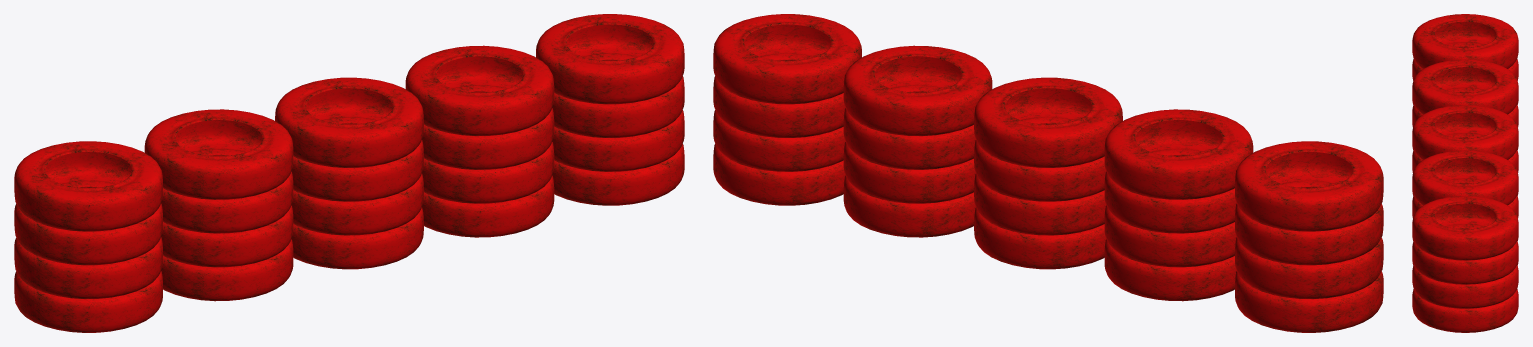
The model's file is TireBarrier_5.fbx.
3 renders of one model, left to right at view 1: azimuth 30°, elevation 25°; view 2: azimuth 150°, elevation 25°; view 3: azimuth 270°, elevation 25°, orthographic. The views are drawn at different scales.
Visible parts, largest first — view 1: TireBarrier_5; view 2: TireBarrier_5; view 3: TireBarrier_5.
Boxes of the visible parts, bbox=[...] form: TireBarrier_5: bbox=[14, 14, 684, 332]; TireBarrier_5: bbox=[713, 14, 1383, 332]; TireBarrier_5: bbox=[1412, 14, 1518, 332].
Bounding box in the file's own units: 2.9 × 0.5777 × 0.576.
